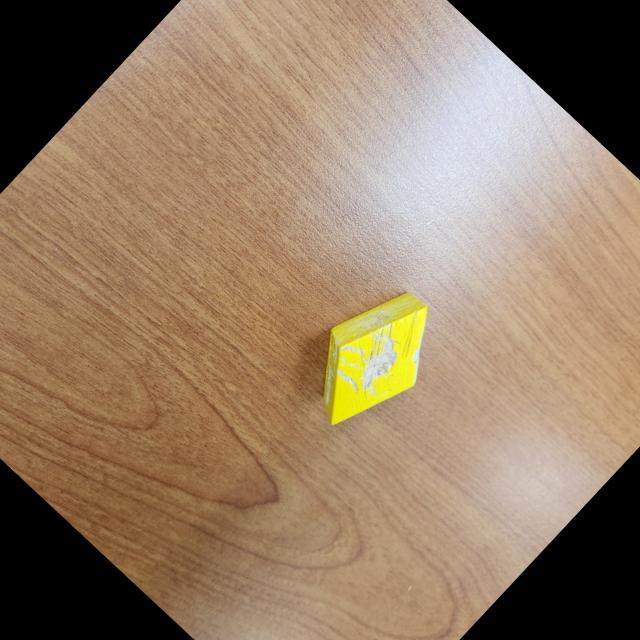broken: (284, 268, 462, 449)
